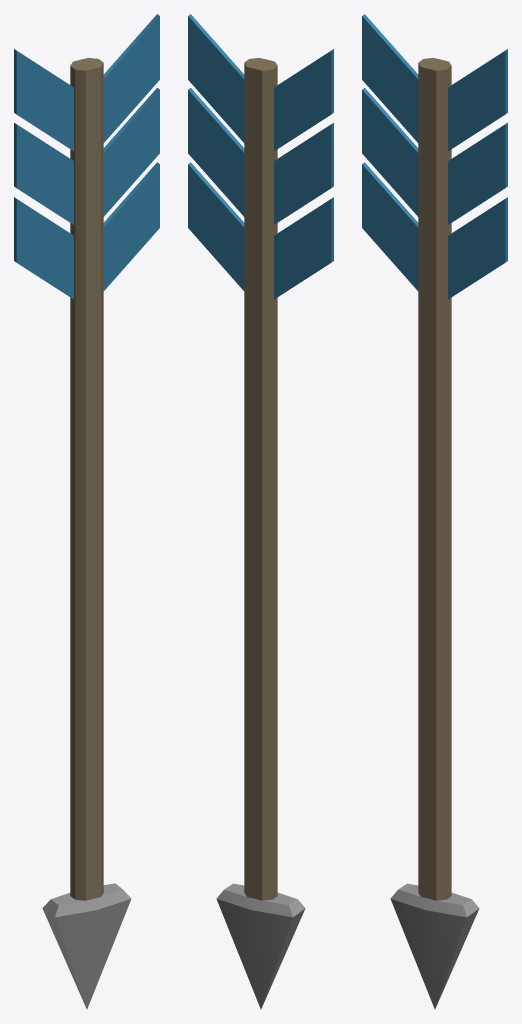
Rendered from Arrow.fbx.
The picture shows the model from 3 angles, left to right: view 1: azimuth 30°, elevation 25°; view 2: azimuth 150°, elevation 25°; view 3: azimuth 330°, elevation 25°; orthographic projection.
Visible parts, largest first — view 1: pCube5; view 2: pCube5; view 3: pCube5.
Boxes of the visible parts, x1=… form: pCube5: x1=14, y1=14, x2=159, y2=1009; pCube5: x1=188, y1=14, x2=333, y2=1009; pCube5: x1=362, y1=14, x2=507, y2=1009.
Size of the model in its own units: 1.35 by 8.8 by 0.3062.
